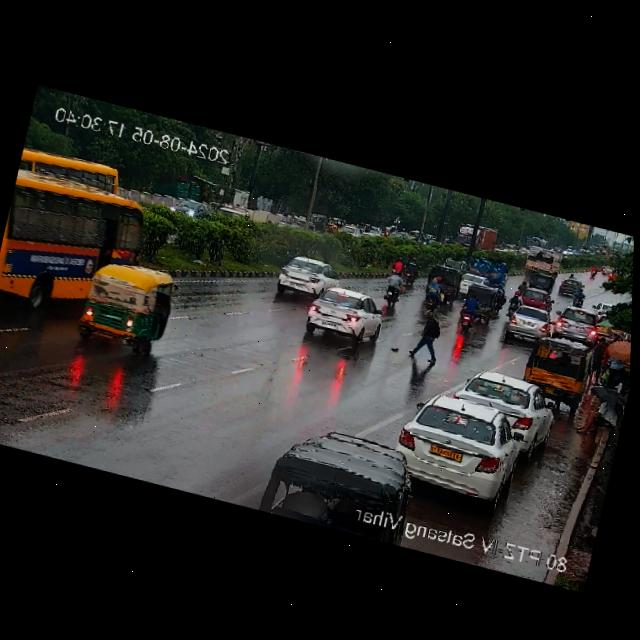bus: (0, 173, 144, 313), (16, 140, 126, 205), (527, 236, 547, 249)
car: (261, 413, 420, 547), (392, 387, 527, 507), (71, 255, 181, 359), (450, 363, 557, 444), (295, 280, 392, 355), (516, 332, 593, 401), (269, 251, 337, 305), (497, 302, 556, 350), (551, 305, 602, 347), (423, 261, 462, 301), (460, 282, 497, 324), (515, 285, 552, 311), (556, 274, 588, 299), (526, 269, 555, 292), (456, 269, 485, 291), (443, 256, 468, 274), (592, 300, 612, 320)
motorcycle: (378, 270, 414, 311), (419, 274, 449, 312), (456, 293, 486, 331), (400, 259, 421, 284), (504, 290, 524, 314), (389, 257, 408, 277), (568, 289, 585, 307)
person: (570, 381, 626, 448), (405, 305, 448, 367), (596, 338, 631, 392)
truck: (454, 219, 498, 256), (469, 255, 510, 284), (524, 246, 563, 276)
